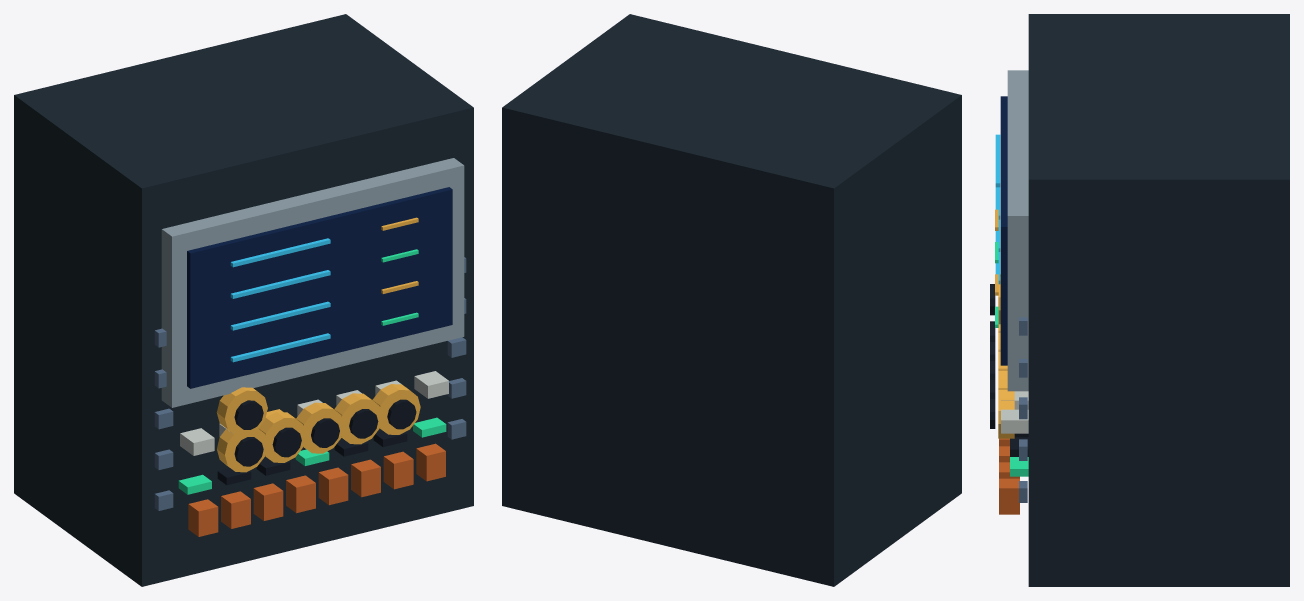
The model's file is 71_L84_IndependentMotionSafetyStation.fbx.
The picture shows the model from 3 angles, left to right: view 1: azimuth 30°, elevation 25°; view 2: azimuth 150°, elevation 25°; view 3: azimuth 270°, elevation 25°; orthographic projection. The views are drawn at different scales.
Parts seen in each view (by area): view 1: L84_IndependentMotionSafetyStation, L84_IndependentMotionSafetyStation_Part_0021, L84_IndependentMotionSafetyStation_Part_0017, L84_IndependentMotionSafetyStation_Part_0013, L84_IndependentMotionSafetyStation_Part_0019, L84_IndependentMotionSafetyStation_Part_0011, L84_IndependentMotionSafetyStation_Part_0015, L84_IndependentMotionSafetyStation_Part_0020, L84_IndependentMotionSafetyStation_Part_0014, L84_IndependentMotionSafetyStation_Part_0016, L84_IndependentMotionSafetyStation_Part_0022, L84_IndependentMotionSafetyStation_Part_0012 (+1 smaller); view 2: L84_IndependentMotionSafetyStation; view 3: L84_IndependentMotionSafetyStation, L84_IndependentMotionSafetyStation_Part_0019.
Boxes of the visible parts, x1=… form: L84_IndependentMotionSafetyStation: x1=14, y1=14, x2=473, y2=586; L84_IndependentMotionSafetyStation_Part_0021: x1=216, y1=387, x2=267, y2=434; L84_IndependentMotionSafetyStation_Part_0017: x1=334, y1=393, x2=382, y2=444; L84_IndependentMotionSafetyStation_Part_0013: x1=258, y1=412, x2=305, y2=462; L84_IndependentMotionSafetyStation_Part_0019: x1=372, y1=384, x2=420, y2=434; L84_IndependentMotionSafetyStation_Part_0011: x1=217, y1=427, x2=267, y2=472; L84_IndependentMotionSafetyStation_Part_0015: x1=296, y1=402, x2=344, y2=453; L84_IndependentMotionSafetyStation_Part_0020: x1=387, y1=399, x2=416, y2=429; L84_IndependentMotionSafetyStation_Part_0014: x1=272, y1=427, x2=301, y2=457; L84_IndependentMotionSafetyStation_Part_0016: x1=311, y1=418, x2=339, y2=447; L84_IndependentMotionSafetyStation_Part_0022: x1=234, y1=400, x2=263, y2=429; L84_IndependentMotionSafetyStation_Part_0012: x1=234, y1=437, x2=263, y2=466; L84_IndependentMotionSafetyStation: x1=502, y1=14, x2=961, y2=586; L84_IndependentMotionSafetyStation: x1=995, y1=14, x2=1289, y2=586; L84_IndependentMotionSafetyStation_Part_0019: x1=998, y1=388, x2=1014, y2=438.
Bounding box in the file's own units: 99.96 × 115 × 76.52.
